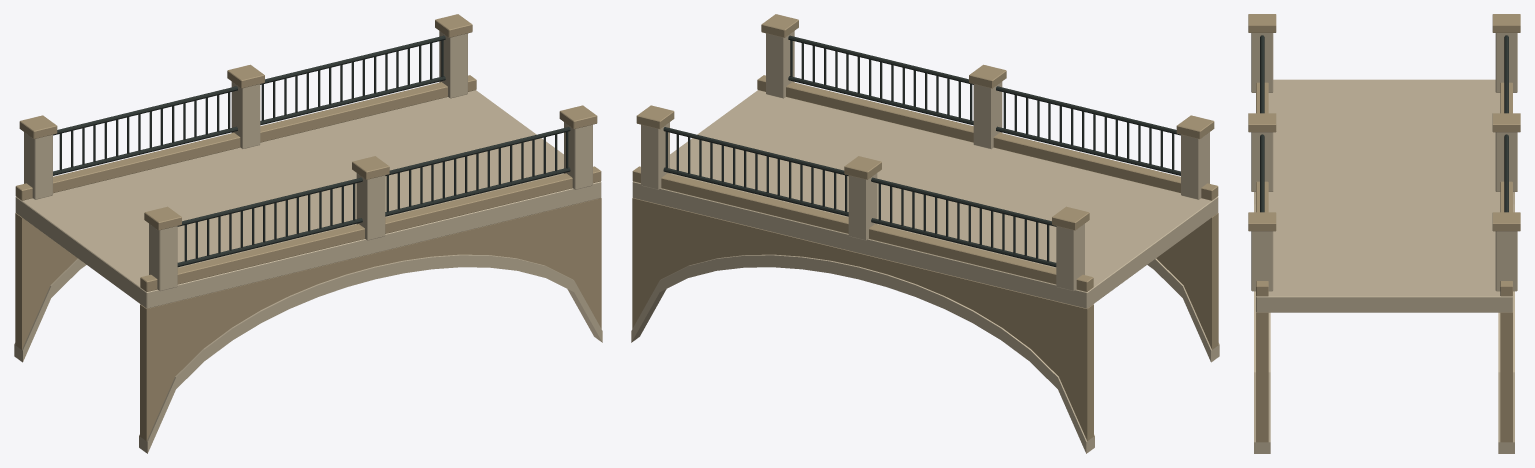
The model's file is bridge_span.glb.
3 views of the same model, side by side, from view 1: azimuth 30°, elevation 25°; view 2: azimuth 150°, elevation 25°; view 3: azimuth 270°, elevation 25° (orthographic). The views are drawn at different scales.
Visible parts, largest first — view 1: span; view 2: span; view 3: span.
Boxes of the visible parts, x1=… form: span: x1=14, y1=14, x2=602, y2=453; span: x1=631, y1=14, x2=1219, y2=453; span: x1=1248, y1=14, x2=1520, y2=453.
Bounding box in the file's own units: 8 × 3.89 × 4.24.
